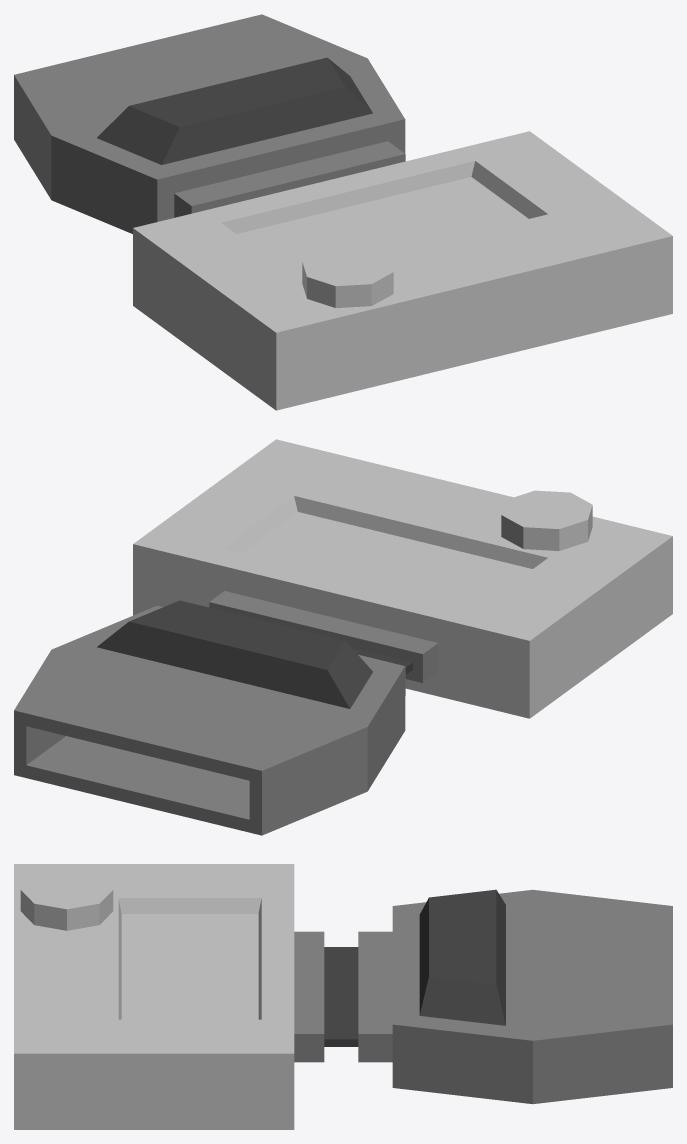
The model's file is Item_ModuleLaser.fbx.
3 renders of one model, top to bottom at view 1: azimuth 30°, elevation 25°; view 2: azimuth 150°, elevation 25°; view 3: azimuth 270°, elevation 25°, orthographic. The views are drawn at different scales.
Parts seen in each view (by area): view 1: ModuleBase_Laser, LaserCannon; view 2: ModuleBase_Laser, LaserCannon; view 3: ModuleBase_Laser, LaserCannon.
Boxes of the visible parts, x1,y1,x2,y2 form: ModuleBase_Laser: (133, 131, 672, 410); LaserCannon: (14, 14, 405, 233); ModuleBase_Laser: (133, 439, 672, 718); LaserCannon: (14, 591, 438, 835); ModuleBase_Laser: (14, 864, 294, 1129); LaserCannon: (294, 889, 672, 1104).
Size of the model in its own units: 320 by 77.19 by 470.
